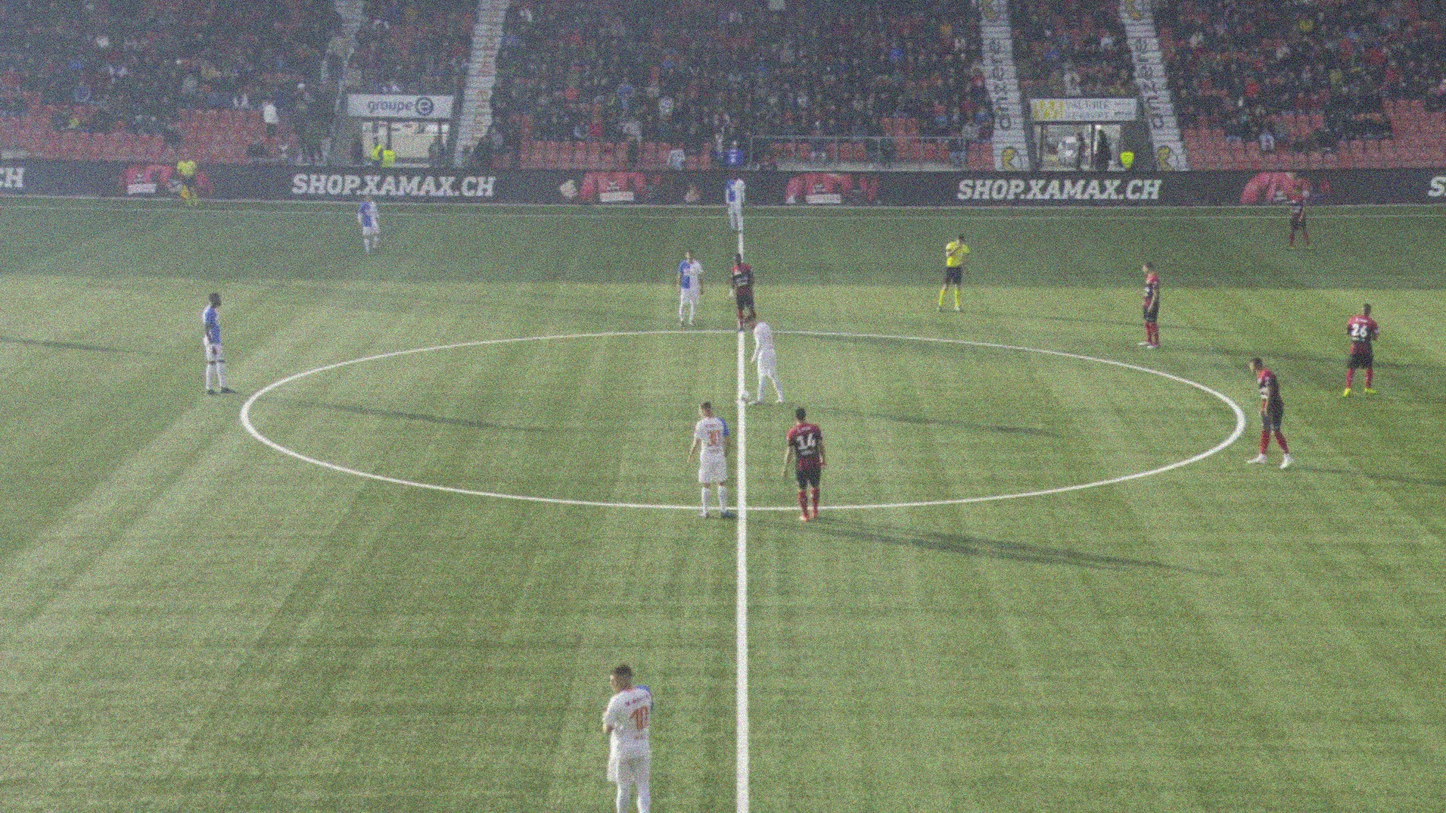ball: (738, 391, 751, 403)
player: (601, 663, 653, 811), (688, 400, 731, 517), (1247, 357, 1292, 468), (783, 405, 825, 522), (746, 313, 785, 403), (203, 291, 237, 394), (1343, 302, 1380, 396), (728, 252, 757, 330), (678, 249, 705, 325), (1137, 260, 1160, 347), (1285, 187, 1310, 250), (358, 193, 382, 254), (727, 169, 746, 233)
referee: (938, 233, 971, 310), (177, 151, 198, 206)
